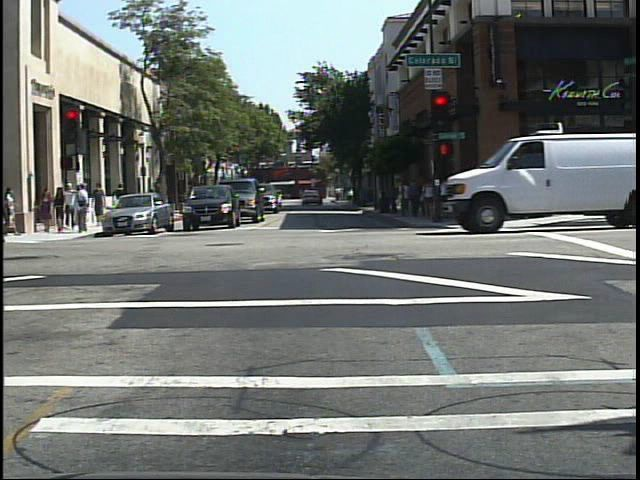person: (71, 181, 93, 237)
